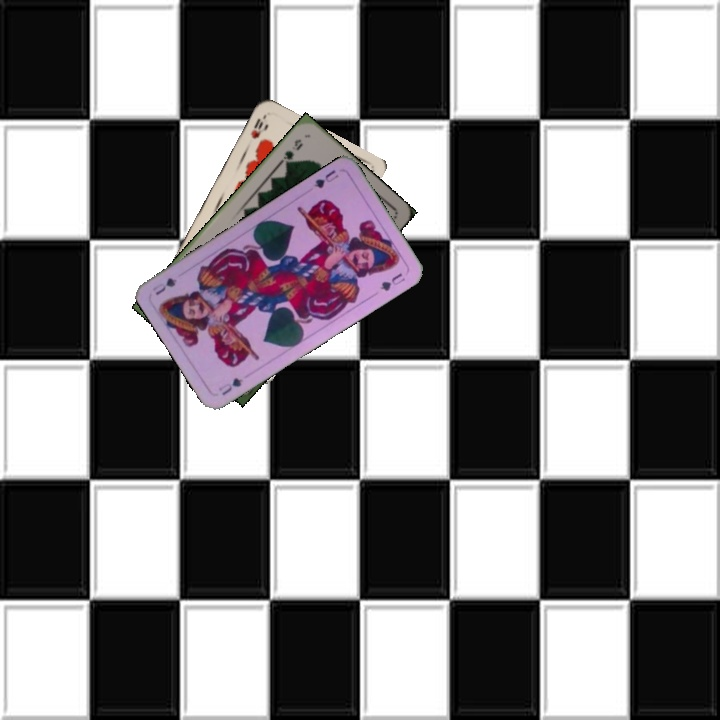G9: (276, 135, 306, 169)
GU: (310, 166, 341, 191), (214, 374, 246, 398)
H10: (247, 114, 266, 141)
